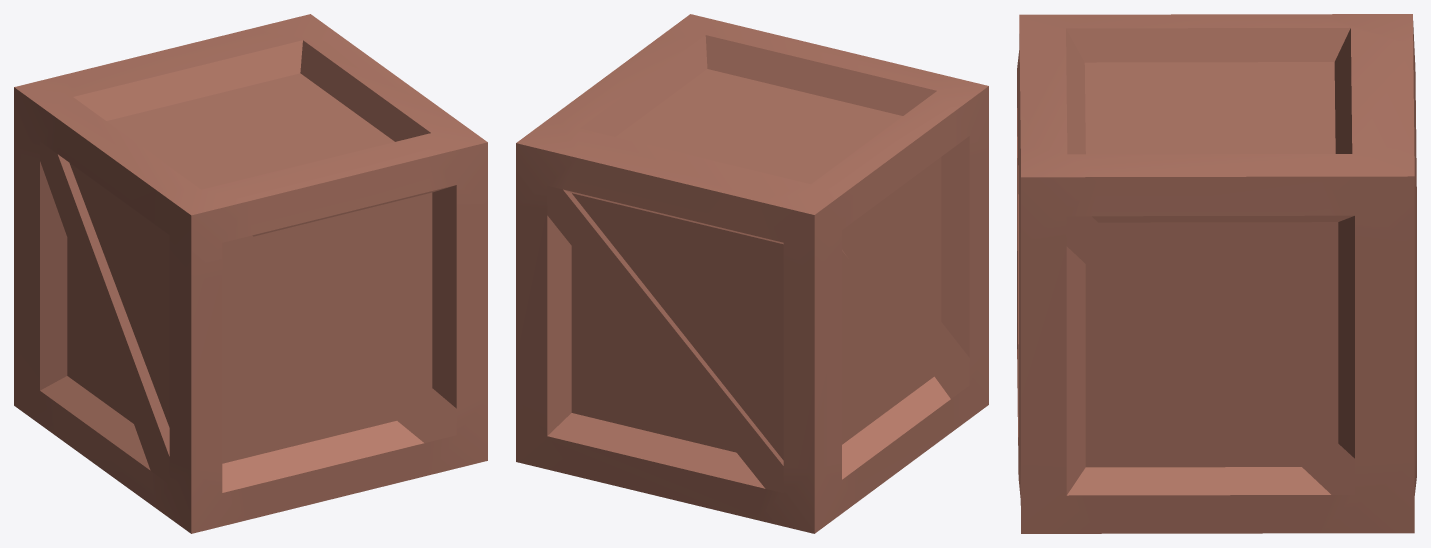
Rendered from CrateV2.fbx.
3 renders of one model, left to right at view 1: azimuth 30°, elevation 25°; view 2: azimuth 150°, elevation 25°; view 3: azimuth 270°, elevation 25°, orthographic. The views are drawn at different scales.
Parts seen in each view (by area): view 1: Crate; view 2: Crate; view 3: Crate.
Part boxes in pixels (x1,y1,x2,y2): Crate: (14, 14, 487, 533); Crate: (516, 14, 988, 533); Crate: (1017, 14, 1416, 533).
Bounding box in the file's own units: 129 × 132 × 133.
